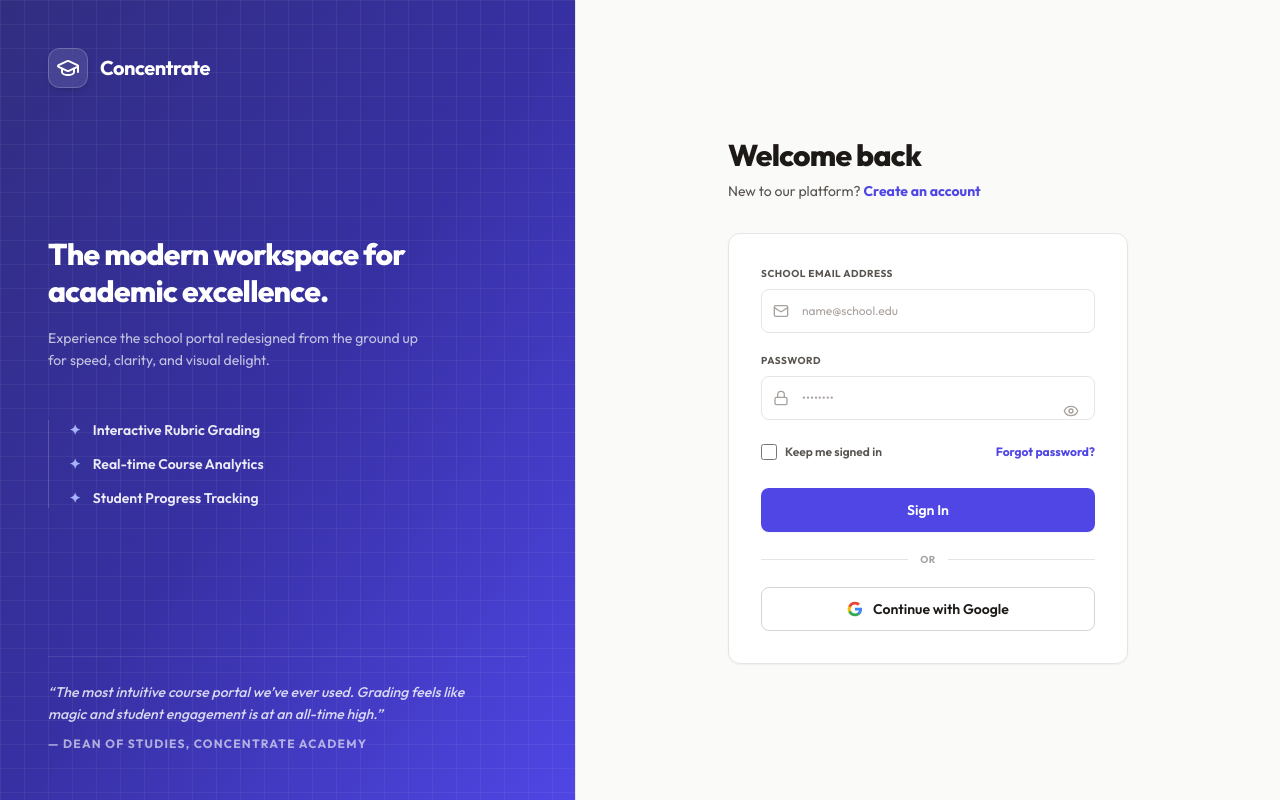
Test: LoginPage › shows a default failure toast when a non-Error value is thrown
The image size is (1280, 800).
In the field labelled "School Email Address": (928, 310) [761,288,1095,332], type "student@school.edu"
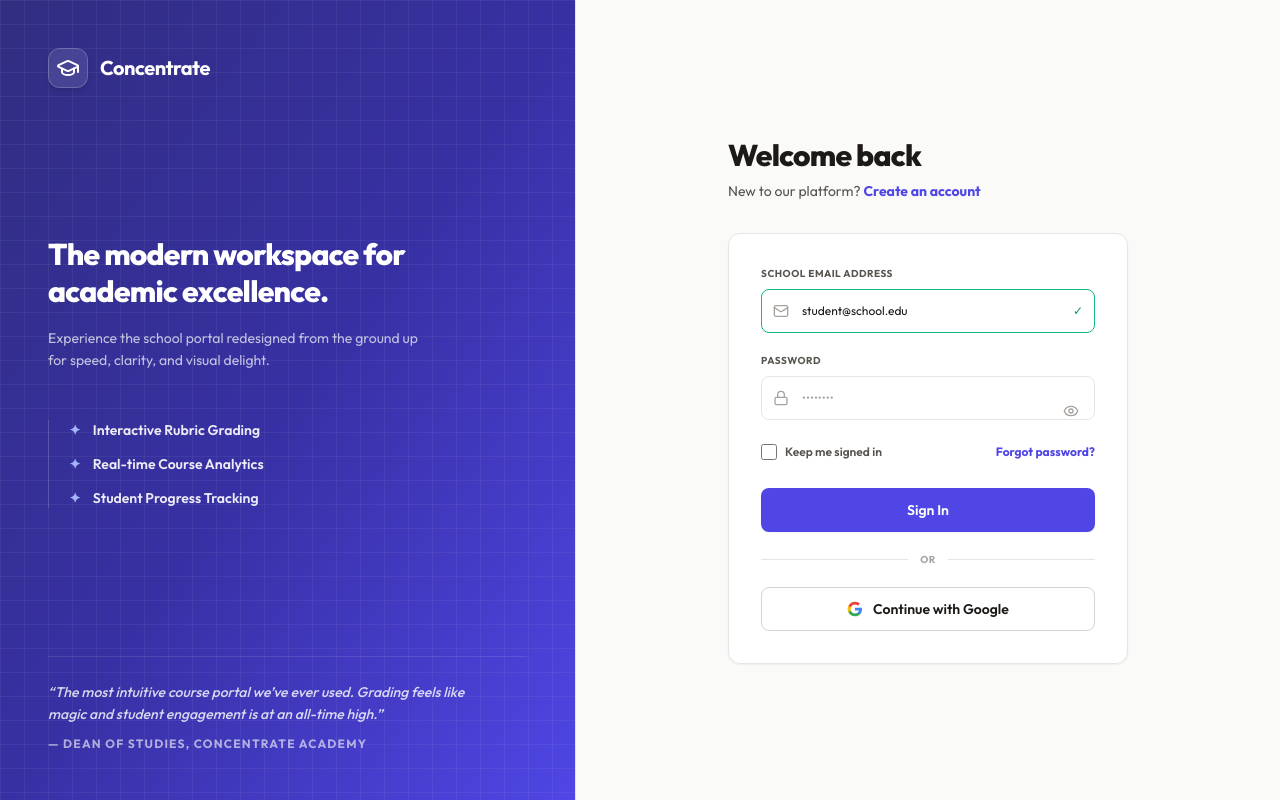
In the password field labelled "Password": (928, 398) [761,376,1095,420], type "password123"
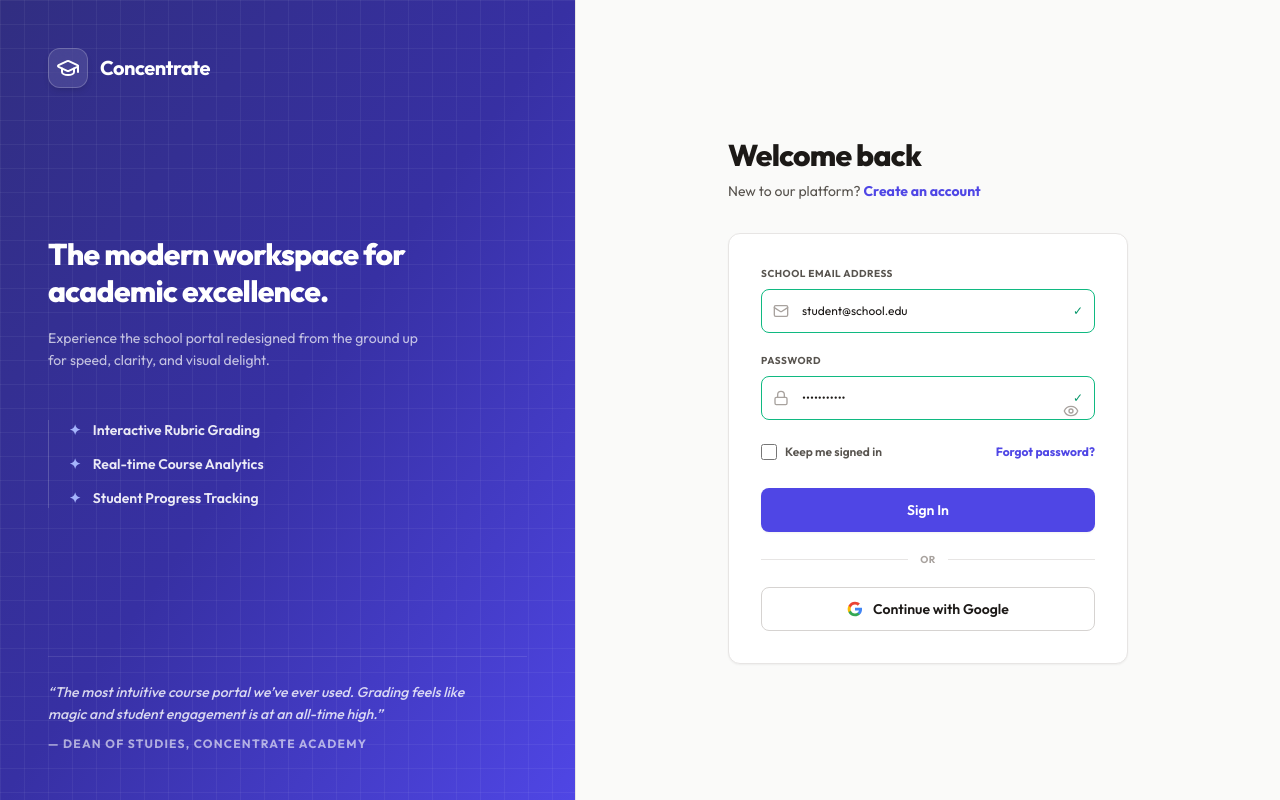
Click the button "Sign In": (928, 510) [761,488,1095,532]
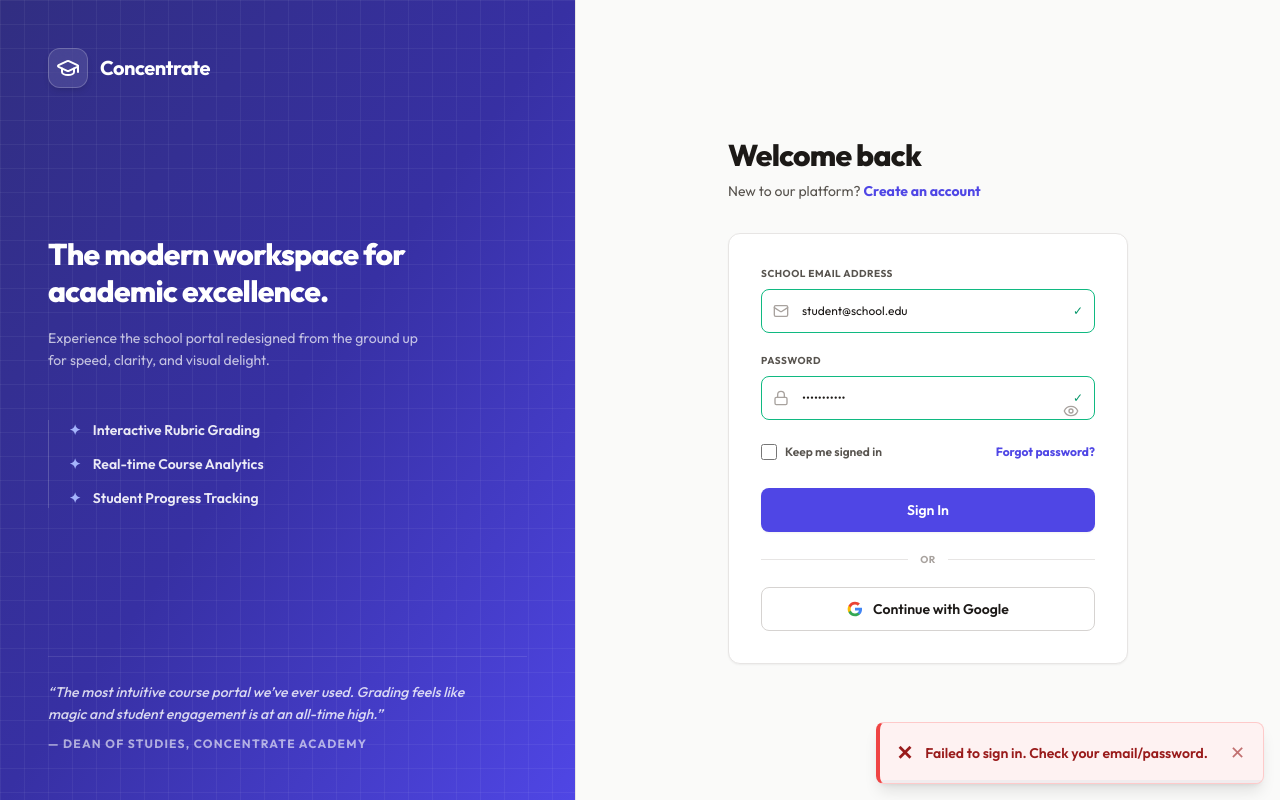
Result: the text "Failed to sign in. Check your email/password." is shown at [925,743,1216,763]
